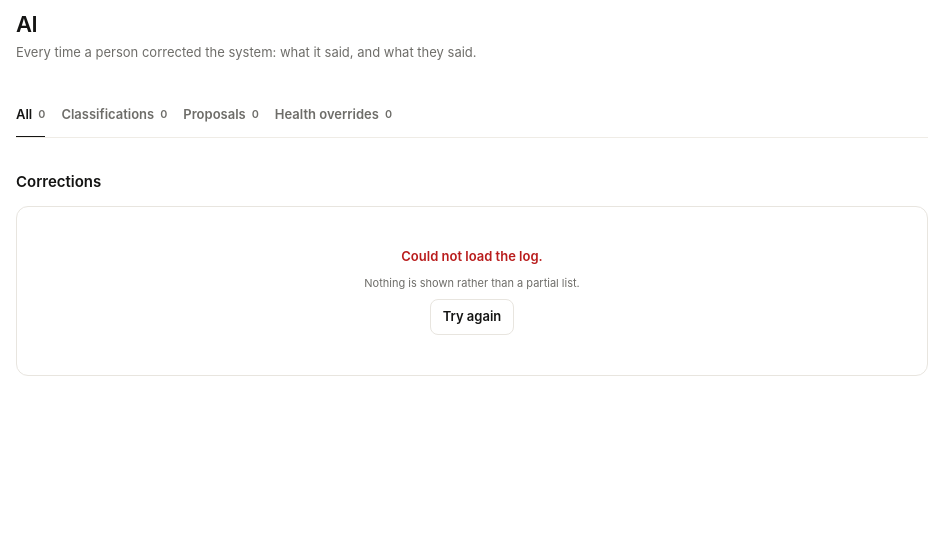
Test: FeedbackLogPage: a failed read and a reload › shows the error with Try again inside the Corrections card when there is nothing to show
Check: the message shows "Could not load the log.", box [401, 248, 543, 264]
Check: the number of messages is 1, box [364, 248, 580, 334]
What coordinates should you click on to do the following:
click the button "Try again"
I would click on:
 (472, 316)
Its box is [430, 298, 514, 334].
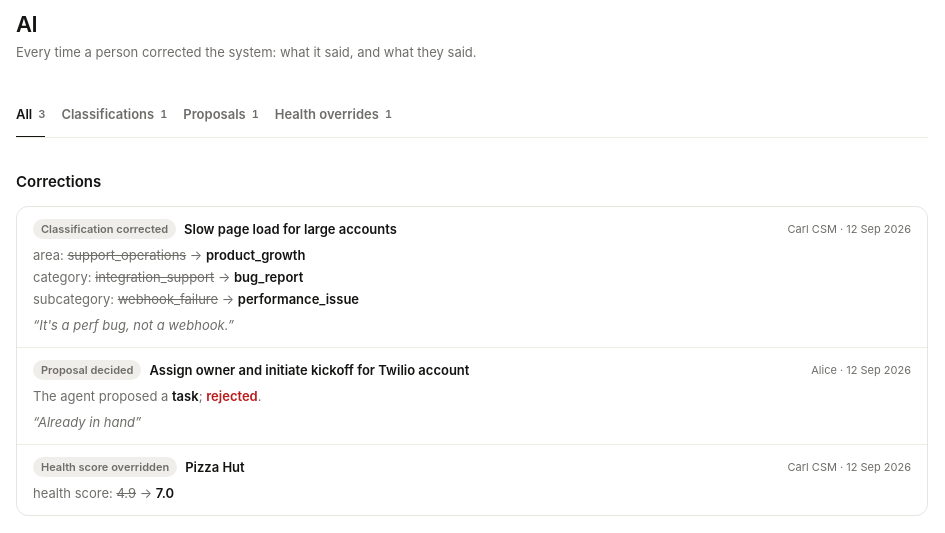
Check: the text "Pizza Hut" is shown, box [185, 457, 245, 477]
